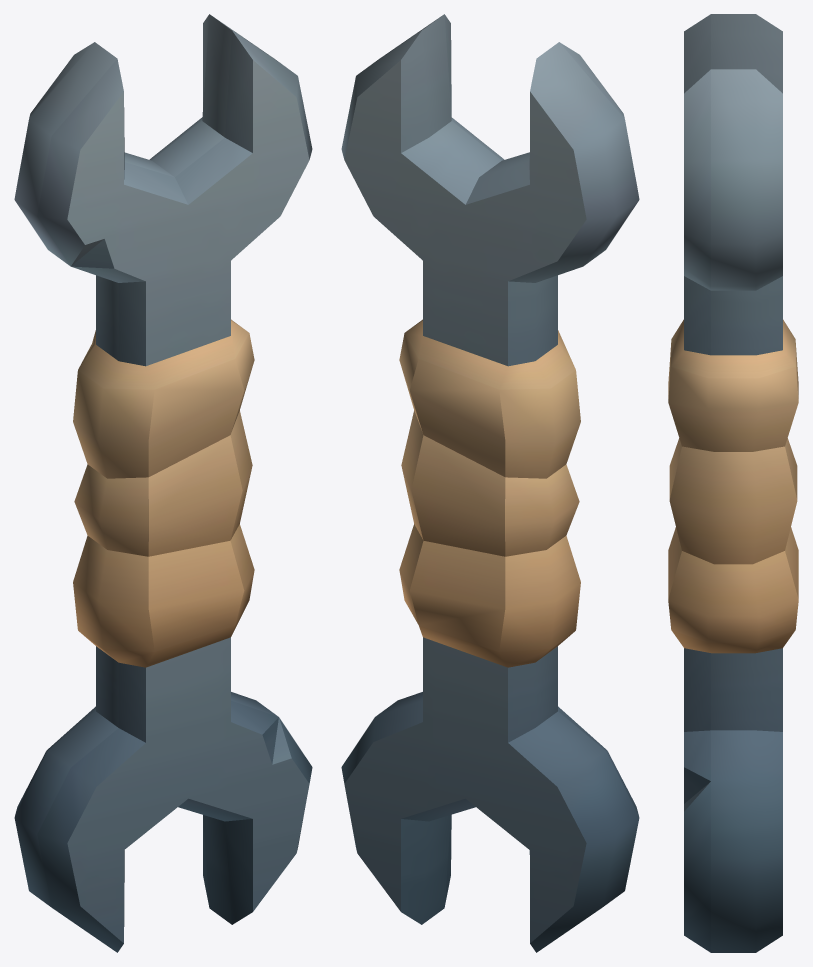
Rendered from wrench_a.glb.
3 views of the same model, side by side, from view 1: azimuth 30°, elevation 25°; view 2: azimuth 150°, elevation 25°; view 3: azimuth 270°, elevation 25° (orthographic).
Parts seen in each view (by area): view 1: wrench_A; view 2: wrench_A; view 3: wrench_A.
Part boxes in pixels (x1,y1,x2,y2): wrench_A: (14, 14, 312, 952); wrench_A: (341, 14, 639, 952); wrench_A: (668, 14, 798, 952).
Bounding box in the file's own units: 0.2639 × 0.819 × 0.1097.
1 material, 1 textured.
